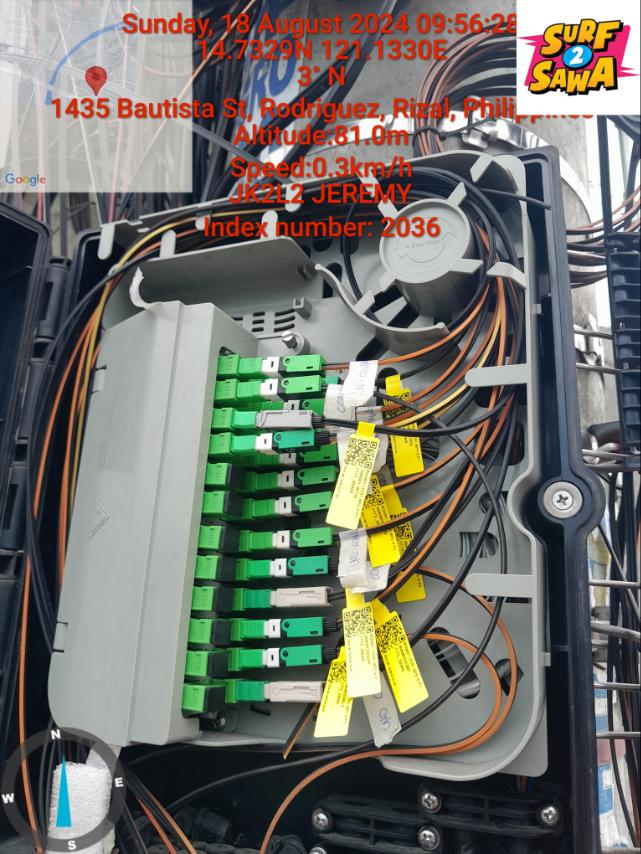occupied: (235, 677, 335, 707), (239, 641, 344, 668), (251, 487, 341, 518), (247, 553, 351, 578), (242, 583, 338, 610), (241, 613, 343, 638), (238, 355, 330, 379), (235, 374, 327, 398), (256, 465, 344, 490), (231, 430, 335, 451), (248, 527, 339, 550), (232, 409, 329, 430), (260, 423, 341, 448), (258, 443, 341, 467), (261, 397, 339, 421), (263, 374, 344, 392)
vacant: (218, 525, 242, 554), (202, 686, 226, 713), (211, 619, 233, 648), (215, 556, 239, 582), (222, 490, 243, 519), (207, 651, 231, 676), (226, 462, 246, 491), (212, 588, 235, 613)
